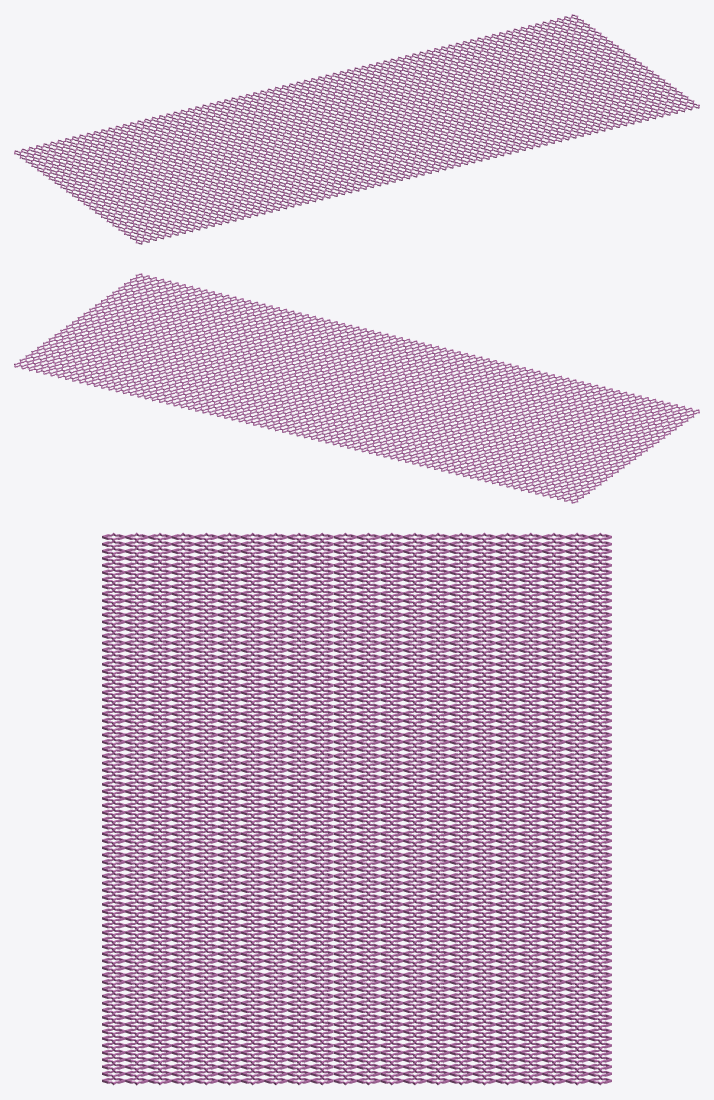
The model's file is gatefloor.fbx.
3 renders of one model, top to bottom at view 1: azimuth 30°, elevation 25°; view 2: azimuth 150°, elevation 25°; view 3: azimuth 270°, elevation 25°, orthographic. The views are drawn at different scales.
Parts seen in each view (by area): view 1: gatefloor; view 2: gatefloor; view 3: gatefloor.
Boxes of the visible parts, <box> form: gatefloor: <box>14,14,699,244</box>; gatefloor: <box>14,273,699,503</box>; gatefloor: <box>102,532,611,1085</box>.
Bounding box in the file's own units: 7701 × 15.4 × 3012.
